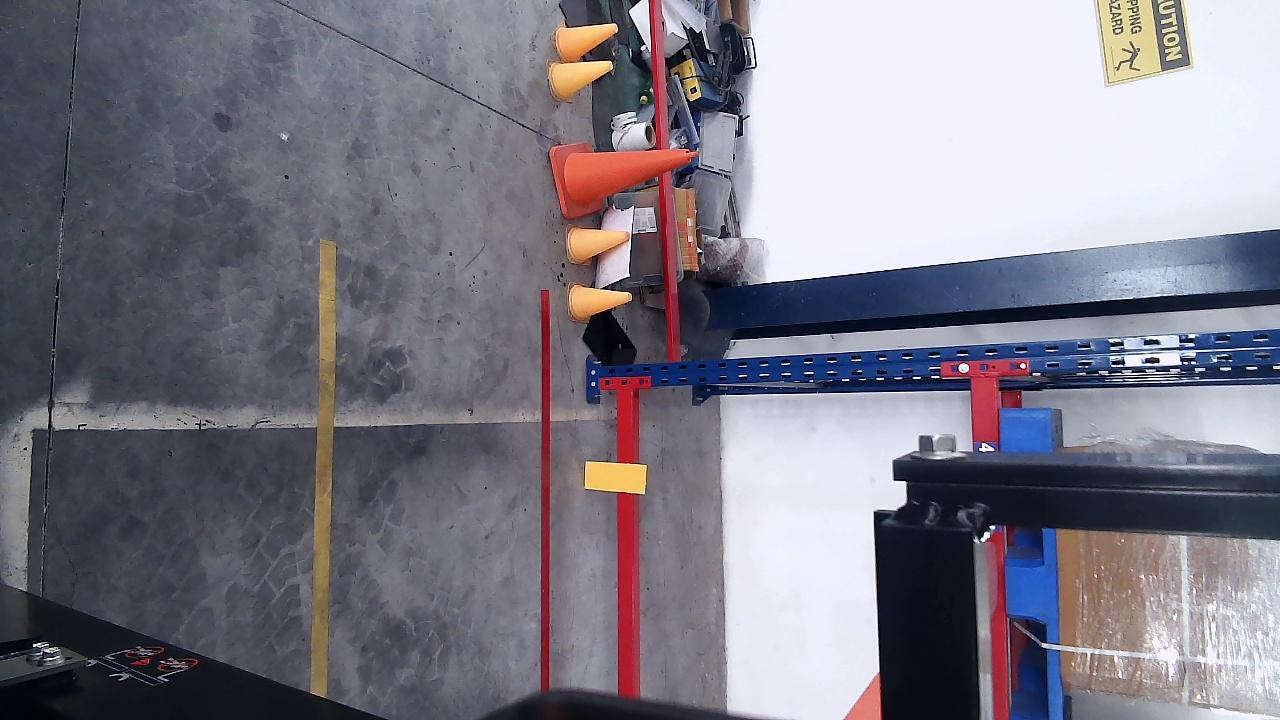h_rack: (616, 388, 638, 698)
orange_strip: (586, 463, 643, 491)
red_line: (537, 287, 549, 689)
small_pallet: (1002, 409, 1061, 717)
yellow_line: (312, 239, 338, 697)
